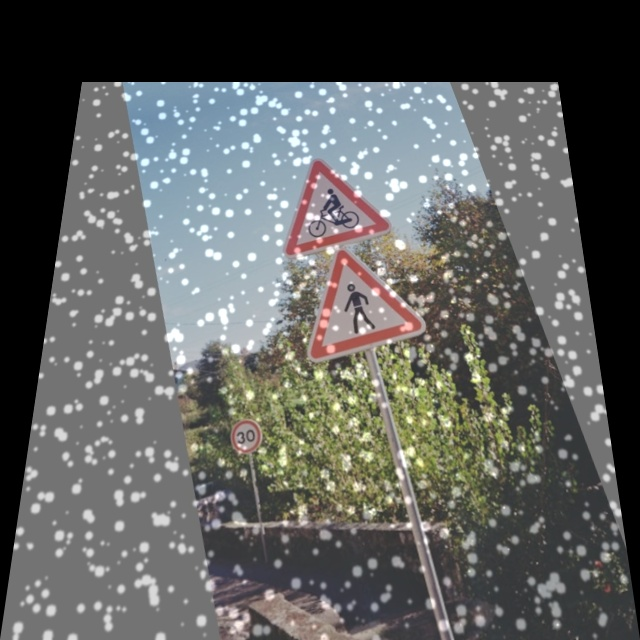Cycle_Crossing: (267, 147, 398, 258)
